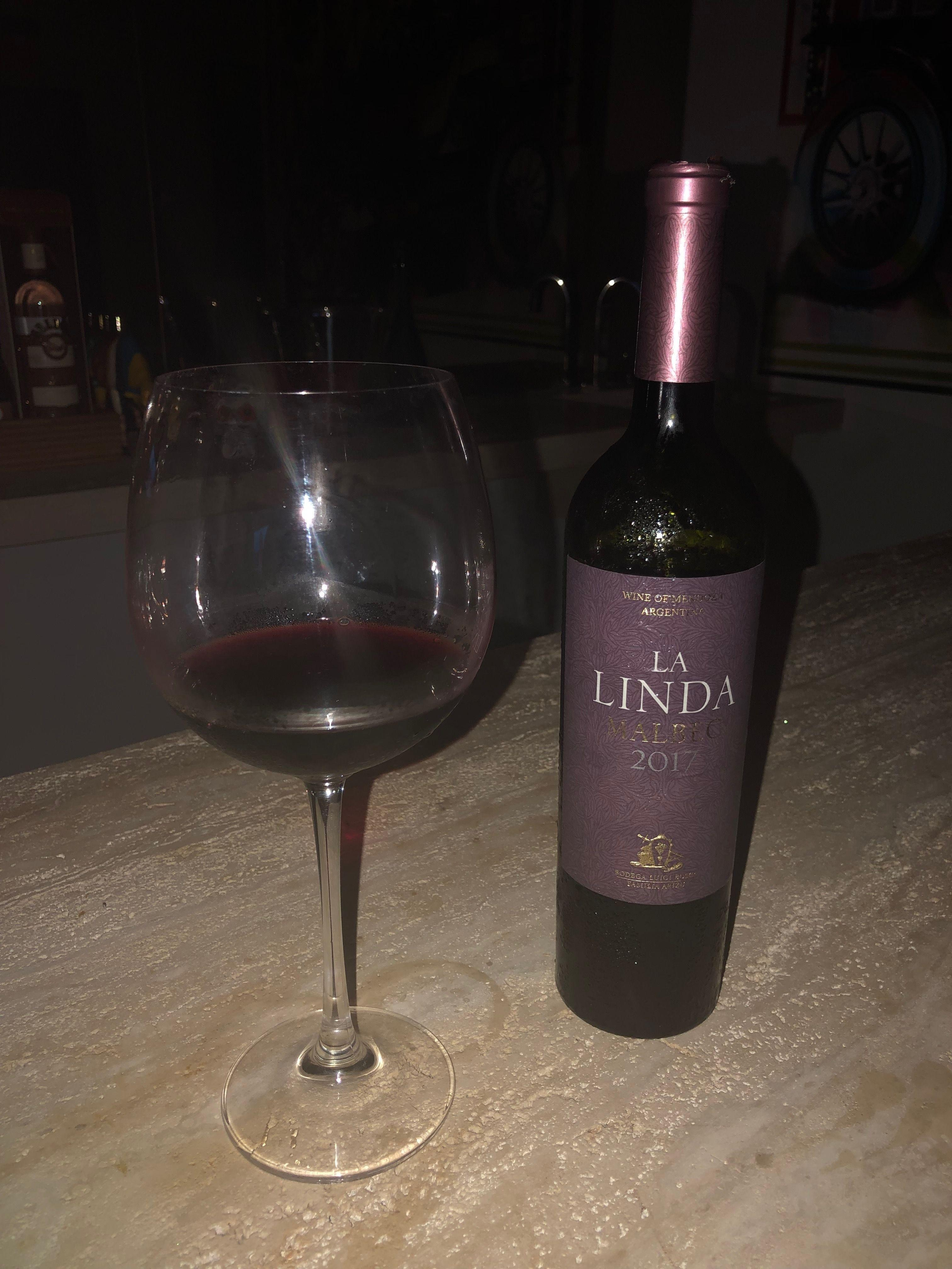bottle-glass: (551, 151, 788, 1040)
glass-wine: (128, 360, 499, 1183)
